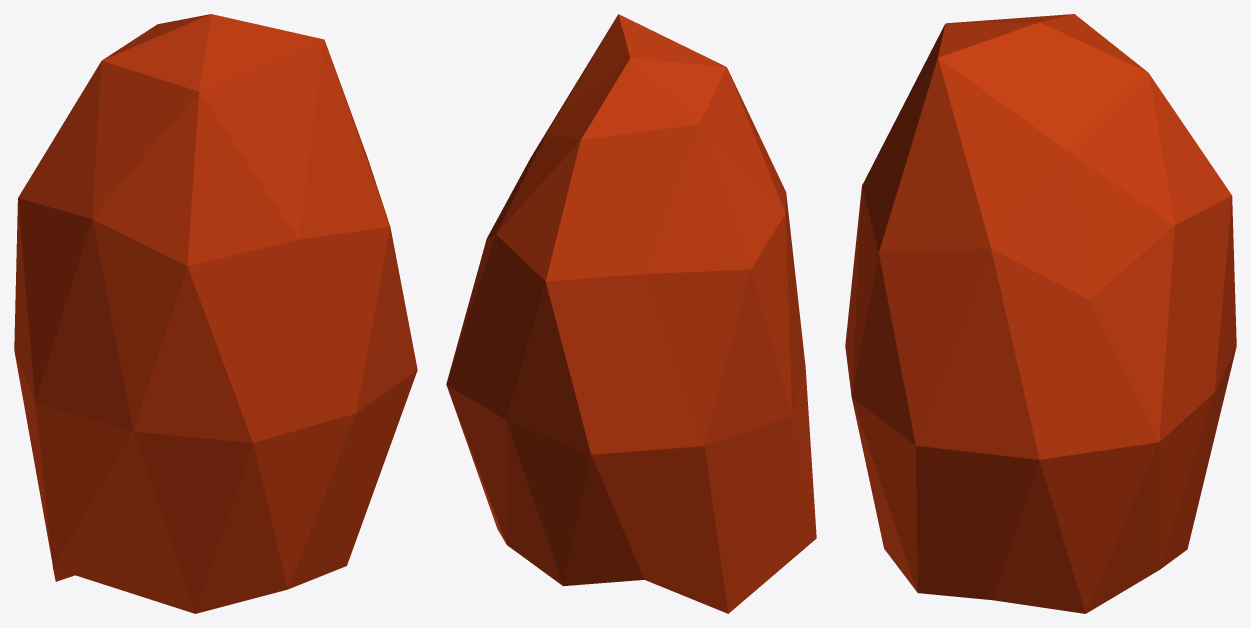
File: Bush_4_summer_red_mat.fbx
The picture shows the model from 3 angles, left to right: view 1: azimuth 30°, elevation 25°; view 2: azimuth 150°, elevation 25°; view 3: azimuth 270°, elevation 25°; orthographic projection. The views are drawn at different scales.
Parts seen in each view (by area): view 1: Bush_4_summer_red_mat; view 2: Bush_4_summer_red_mat; view 3: Bush_4_summer_red_mat.
Part boxes in pixels (x1=…): Bush_4_summer_red_mat: x1=14, y1=14, x2=417, y2=613; Bush_4_summer_red_mat: x1=446, y1=14, x2=816, y2=613; Bush_4_summer_red_mat: x1=845, y1=14, x2=1236, y2=613.
Size of the model in its own units: 39.09 by 58.1 by 36.72.
